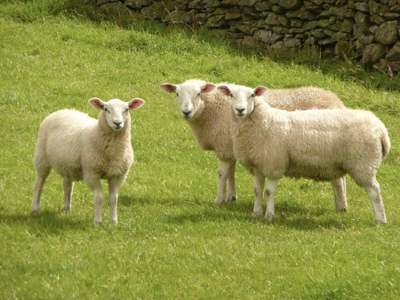koyun: (227, 85, 391, 225), (31, 96, 144, 224), (157, 77, 217, 119)
